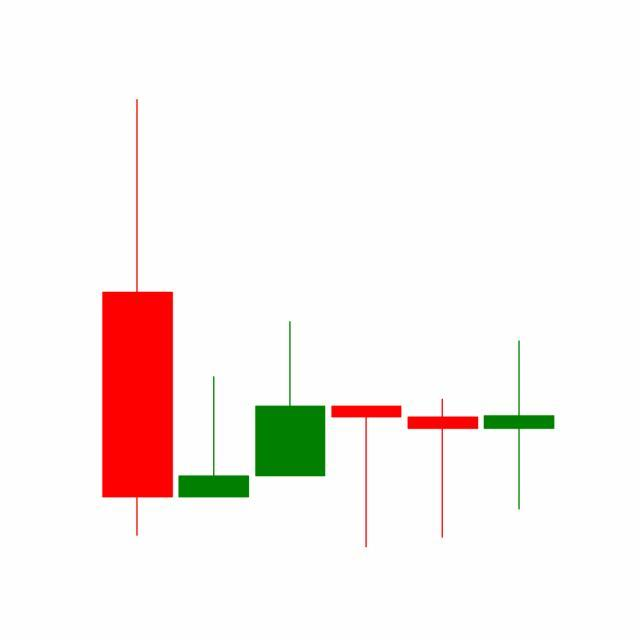Spinning Top: (404, 397, 482, 540)
